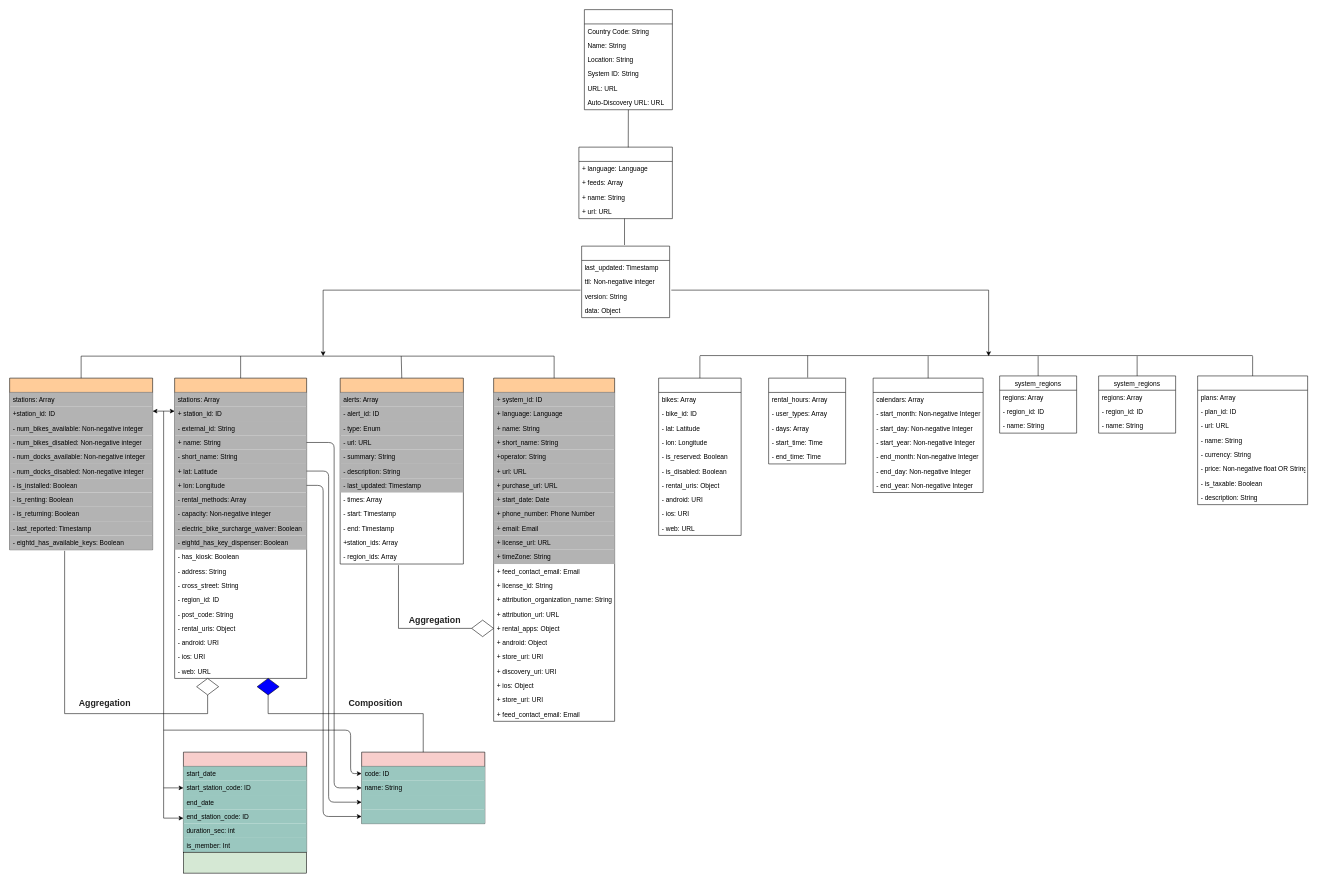
Image size: 1317x883. Some labels were removed from this diagram. The box of each missing label's shape, as (x1, y1, x2, y2) in pixels:
- getDateDiff( ): (183, 852, 307, 873)
free_bike_status: (658, 378, 741, 535)
gbfs: (578, 147, 672, 219)
lat: Latitude: (361, 795, 485, 809)
lon: Longitude: (361, 809, 485, 823)
Output Format: (581, 246, 670, 318)
station_information: (174, 378, 307, 678)
station_status: (9, 378, 153, 550)
Stations: (361, 752, 485, 824)
system_alerts: (340, 378, 463, 564)
system_calendar: (873, 378, 983, 493)
system_hours: (768, 378, 846, 464)
system_information: (493, 378, 615, 721)
system_pricing_plans: (1197, 375, 1308, 505)
systems: (584, 9, 672, 110)
Trips: (183, 752, 307, 852)
